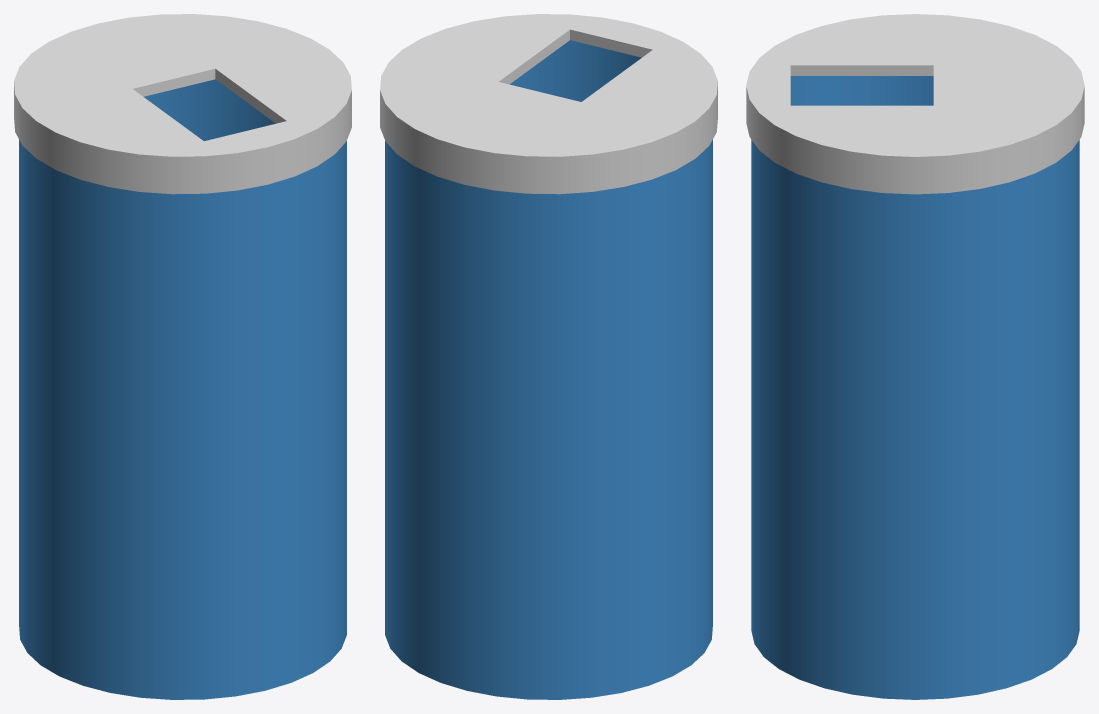
Rendered from Pillbox2.fbx.
The picture shows the model from 3 angles, left to right: view 1: azimuth 30°, elevation 25°; view 2: azimuth 150°, elevation 25°; view 3: azimuth 270°, elevation 25°; orthographic projection.
Parts seen in each view (by area): view 1: Pillbox2; view 2: Pillbox2; view 3: Pillbox2.
Boxes of the visible parts, left/top/right/bottom form: Pillbox2: left=14, top=14, right=351, bottom=699; Pillbox2: left=380, top=14, right=717, bottom=699; Pillbox2: left=746, top=14, right=1084, bottom=699.
Size of the model in its own units: 4.27 by 7.59 by 4.27.
